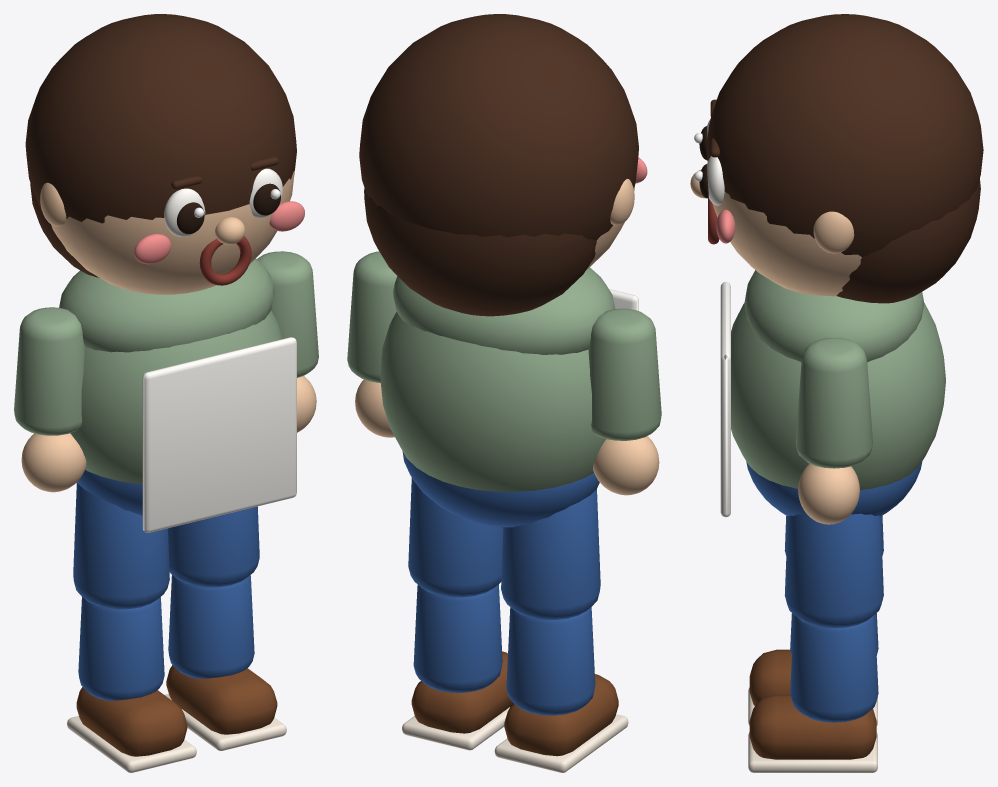
File: personnage.glb
3 renders of one model, left to right at view 1: azimuth 30°, elevation 25°; view 2: azimuth 150°, elevation 25°; view 3: azimuth 270°, elevation 25°, orthographic. The views are drawn at different scales.
Visible parts, largest first — view 1: cheveux_dessus, tablier, epaules, ventre, crane_cartoon, cuisse_g, manche_g, mollet_d, mollet_g, cuisse_d, chaussure_g, chaussure_d (+16 smaller); view 2: cheveux_dessus, ventre, cheveux_arriere, cuisse_g, epaules, manche_g, mollet_g, mollet_d, cuisse_d, bassin, manche_d, chaussure_g (+6 smaller); view 3: cheveux_dessus, ventre, cuisse_d, epaules, manche_d, mollet_d, cheveux_arriere, crane_cartoon, chaussure_d, main_d, bassin, tablier (+5 smaller).
Part boxes in pixels (<box>): cheveux_dessus: <box>25,14,296,223</box>; tablier: <box>142,337,296,532</box>; epaules: <box>59,258,274,352</box>; ventre: <box>70,310,282,484</box>; crane_cartoon: <box>51,170,294,294</box>; cuisse_g: <box>73,482,169,609</box>; manche_g: <box>14,307,84,435</box>; mollet_d: <box>168,575,254,678</box>; mollet_g: <box>78,597,164,700</box>; cuisse_d: <box>168,506,259,587</box>; chaussure_g: <box>76,687,187,756</box>; chaussure_d: <box>166,665,277,734</box>; cheveux_dessus: <box>359,14,638,240</box>; ventre: <box>380,312,605,491</box>; cheveux_arriere: <box>364,188,596,316</box>; cuisse_g: <box>501,489,600,619</box>; epaules: <box>393,267,615,354</box>; manche_g: <box>588,308,661,440</box>; mollet_g: <box>506,607,595,715</box>; mollet_d: <box>413,584,502,692</box>; cuisse_d: <box>408,478,503,597</box>; bassin: <box>402,452,599,527</box>; manche_d: <box>347,251,397,382</box>; chaussure_g: <box>504,674,618,756</box>; cheveux_dessus: <box>706,14,983,257</box>; ventre: <box>731,303,945,490</box>; cuisse_d: <box>784,513,883,628</box>; epaules: <box>744,270,924,362</box>; manche_d: <box>795,338,872,468</box>; mollet_d: <box>790,615,878,722</box>; cheveux_arriere: <box>836,179,980,303</box>; crane_cartoon: <box>712,192,861,296</box>; chaussure_d: <box>749,694,876,759</box>; main_d: <box>798,463,859,524</box>; bassin: <box>746,461,922,516</box>; tablier: <box>720,282,730,517</box>.
Bounding box in the file's own units: 0.6565 × 1.48 × 0.554.
